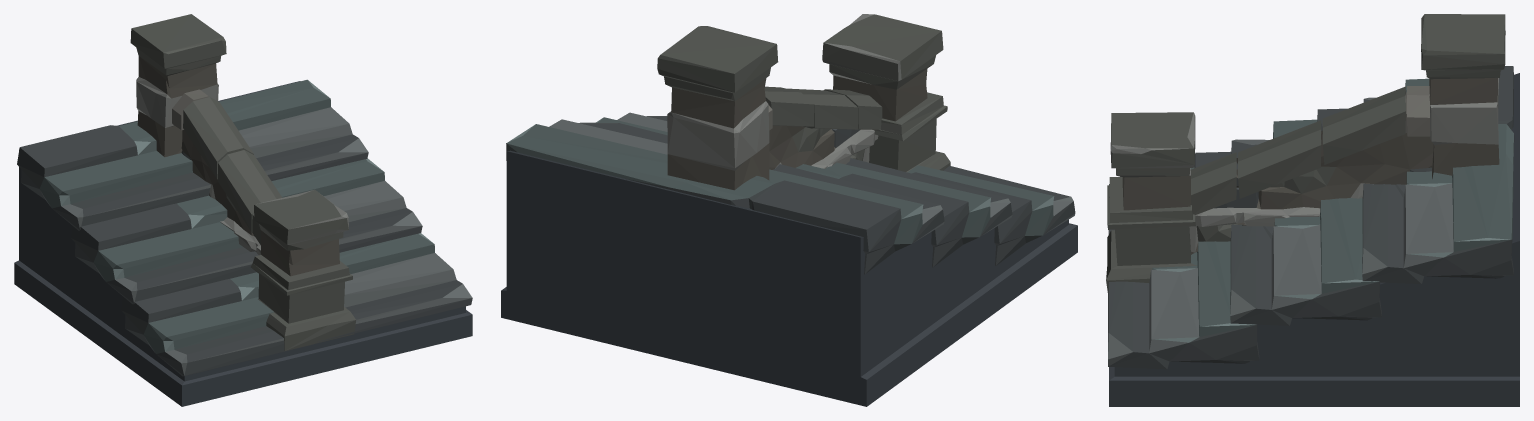
File: MDungeons_StepsCentral.FBX
The picture shows the model from 3 angles, left to right: view 1: azimuth 30°, elevation 25°; view 2: azimuth 150°, elevation 25°; view 3: azimuth 270°, elevation 25°; orthographic projection. The views are drawn at different scales.
Parts seen in each view (by area): view 1: MDungeons_StepsCentral_LOD0; view 2: MDungeons_StepsCentral_LOD0; view 3: MDungeons_StepsCentral_LOD0.
Boxes of the visible parts, x1,y1,x2,y2 form: MDungeons_StepsCentral_LOD0: (14, 14, 472, 406); MDungeons_StepsCentral_LOD0: (501, 14, 1077, 406); MDungeons_StepsCentral_LOD0: (1106, 14, 1519, 406).
Size of what is drawn, in the model's own units: 5.98 by 4.58 by 6.01.
